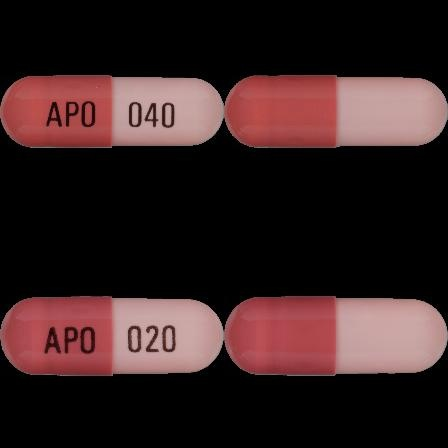10544-895: (0, 0, 224, 224)
